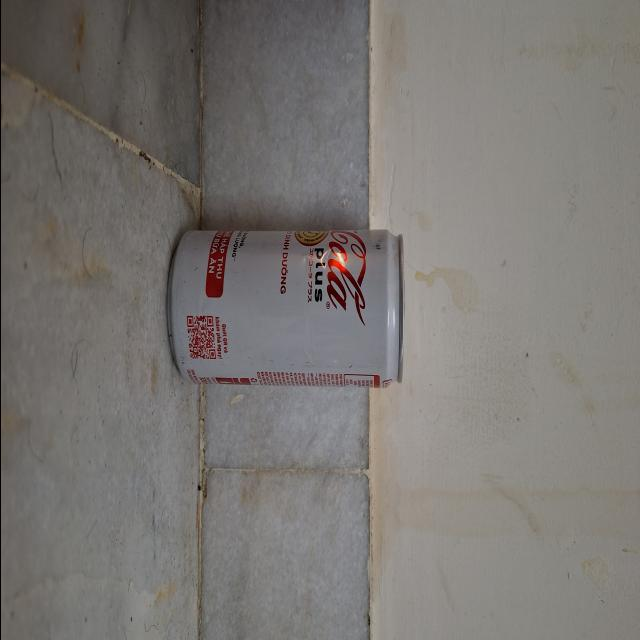Coca Cola Plus: (162, 200, 404, 422)
